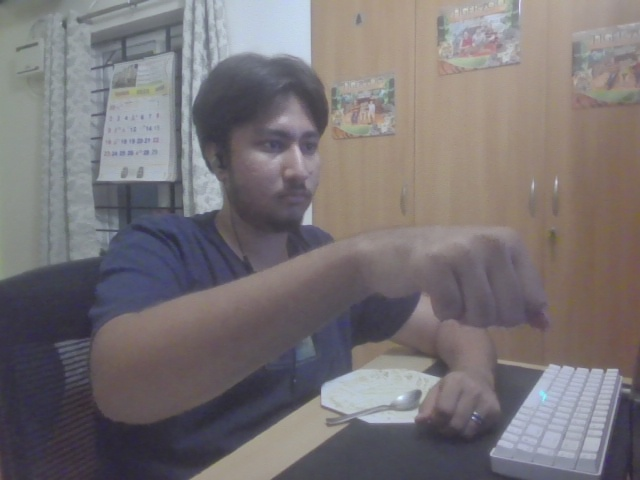yes: (363, 219, 556, 340)
